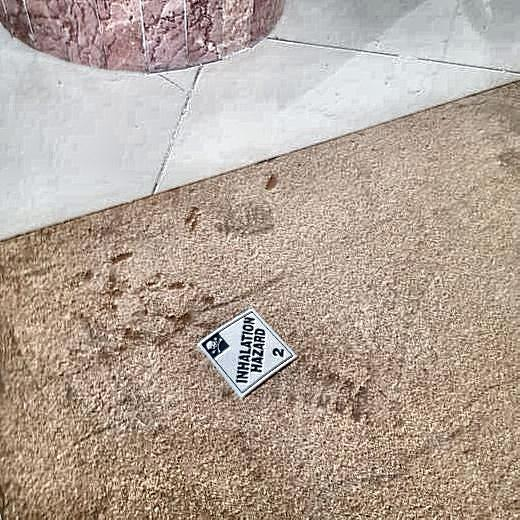poison: (198, 308, 299, 399)
